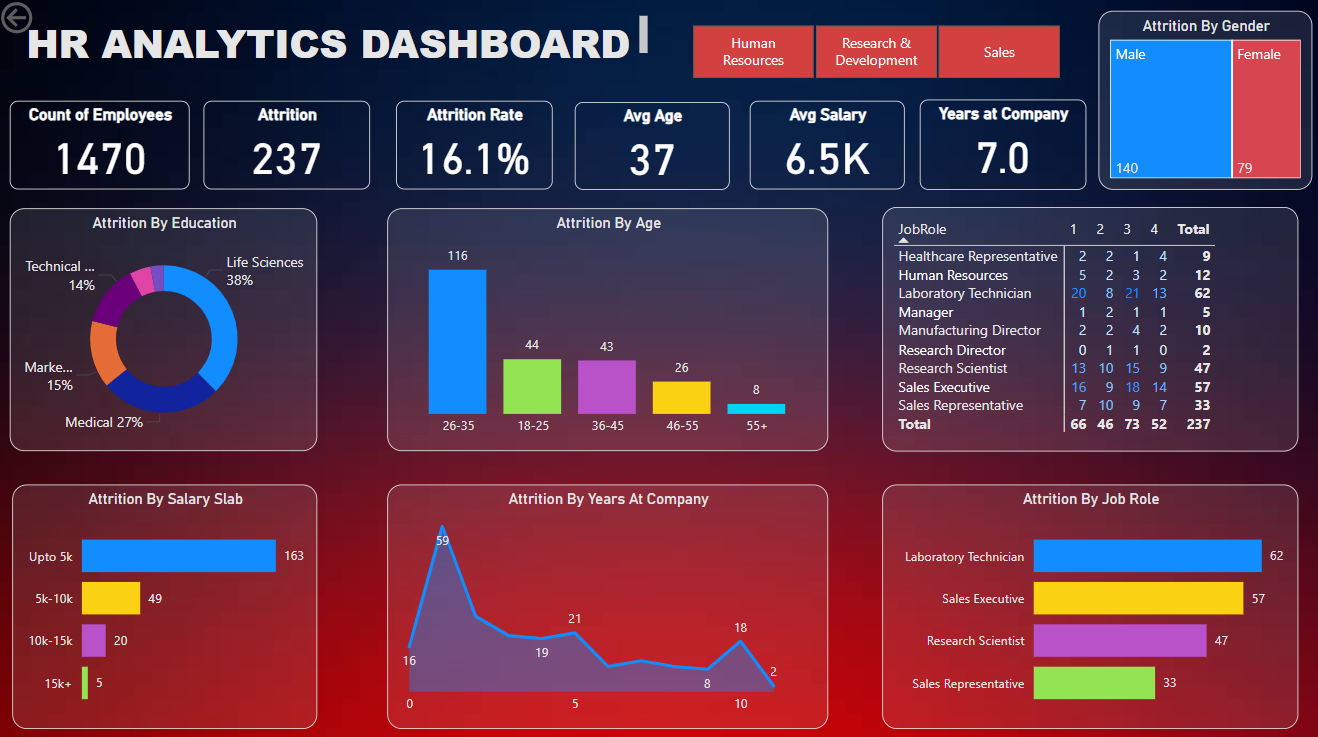

The page's visual inventory and layout, read from the dashboard file:
{"tool":"powerbi","page":{"name":"Page 1","canvas":[1280,720],"ordinal":0},"visuals":[{"type":"card","title":"Count of Employees","fields":{"Values":["CountNonNull(HR_Analytics.EmpID)"]},"box":[13.3,100.1,173.7,85.7],"z":0},{"type":"card","title":"Attrition Rate","fields":{"Values":["HR_Analytics.AttritionRate"]},"box":[386.1,100.1,150.8,85.7],"z":1000},{"type":"card","title":"Years at Company","fields":{"Values":["Avg(HR_Analytics.YearsAtCompany)"]},"box":[891.6,98.9,160.5,86.9],"z":2000},{"type":"card","title":"Attrition","fields":{"Values":["Sum(HR_Analytics.AttritionCount)"]},"box":[200.3,100.1,160.5,85.7],"z":3000},{"type":"actionButton","box":[0,0,100,40],"z":4000},{"type":"card","title":"Avg Salary","fields":{"Values":["Avg(HR_Analytics.MonthlyIncome)"]},"box":[727.5,100.1,149.6,85.7],"z":5000},{"type":"card","title":"Avg Age","fields":{"Values":["Avg(HR_Analytics.Age)"]},"box":[558.6,101.3,149.6,84.5],"z":6000},{"type":"donutChart","title":"Attrition By Education","fields":{"Category":["HR_Analytics.EducationField"],"Y":["Sum(HR_Analytics.AttritionCount)"]},"box":[12.9,204.3,297.1,234.3],"z":7000},{"type":"areaChart","title":"Attrition By Years At Company","fields":{"Category":["HR_Analytics.YearsAtCompany"],"Y":["Sum(HR_Analytics.AttritionCount)"]},"box":[377.1,470,425.7,235.7],"z":8000},{"type":"pivotTable","fields":{"Rows":["HR_Analytics.JobRole"],"Columns":["HR_Analytics.JobSatisfaction"],"Values":["Sum(HR_Analytics.AttritionCount)"]},"box":[855.7,202.9,401.4,235.7],"z":9000},{"type":"barChart","title":"Attrition By Salary Slab","fields":{"Category":["HR_Analytics.SalarySlab"],"Y":["Sum(HR_Analytics.AttritionCount)"]},"box":[15.7,470,294.3,235.7],"z":10000},{"type":"barChart","title":"Attrition By Job Role","fields":{"Y":["Sum(HR_Analytics.AttritionCount)"],"Category":["HR_Analytics.JobRole"]},"box":[855.7,470,401.4,235.7],"z":11000},{"type":"columnChart","title":"Attrition By Age","fields":{"Category":["HR_Analytics.AgeGroup"],"Y":["Sum(HR_Analytics.AttritionCount)"]},"box":[377.1,204.3,425.7,234.3],"z":12000},{"type":"treemap","title":"Attrition By Gender","fields":{"Group":["HR_Analytics.Gender"],"Values":["Sum(HR_Analytics.AttritionCount)"]},"box":[1064.1,13.3,206.3,172.5],"z":13000},{"type":"slicer","fields":{"Values":["HR_Analytics.Department"]},"box":[647.1,20,404.3,64.3],"z":14000},{"type":"textbox","box":[24.3,12.9,610,52.9],"z":15000}]}

Visuals, with their boxes in screenshot pixels (x1, y1, x2, y2), scaled from the page's 1280x720 canvas onto the 1318x737 screenshot:
"Count of Employees" card: 14:102:193:190
"Attrition Rate" card: 398:102:553:190
"Years at Company" card: 918:101:1083:190
"Attrition" card: 206:102:372:190
actionButton: 0:0:103:41
"Avg Salary" card: 749:102:903:190
"Avg Age" card: 575:104:729:190
"Attrition By Education" donutChart: 13:209:319:449
"Attrition By Years At Company" areaChart: 388:481:827:722
pivotTable - HR_Analytics.JobRole x HR_Analytics.JobSatisfaction: 881:208:1294:449
"Attrition By Salary Slab" barChart: 16:481:319:722
"Attrition By Job Role" barChart: 881:481:1294:722
"Attrition By Age" columnChart: 388:209:827:449
"Attrition By Gender" treemap: 1096:14:1308:190
slicer - HR_Analytics.Department: 666:20:1083:86
textbox: 25:13:653:67
